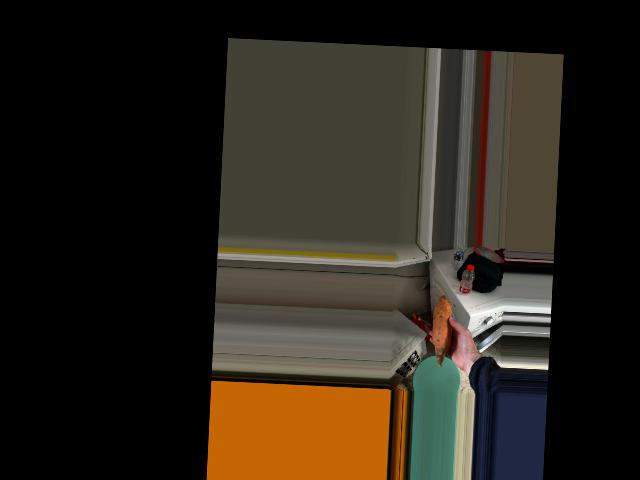sweet_potato: (434, 304, 452, 357)
